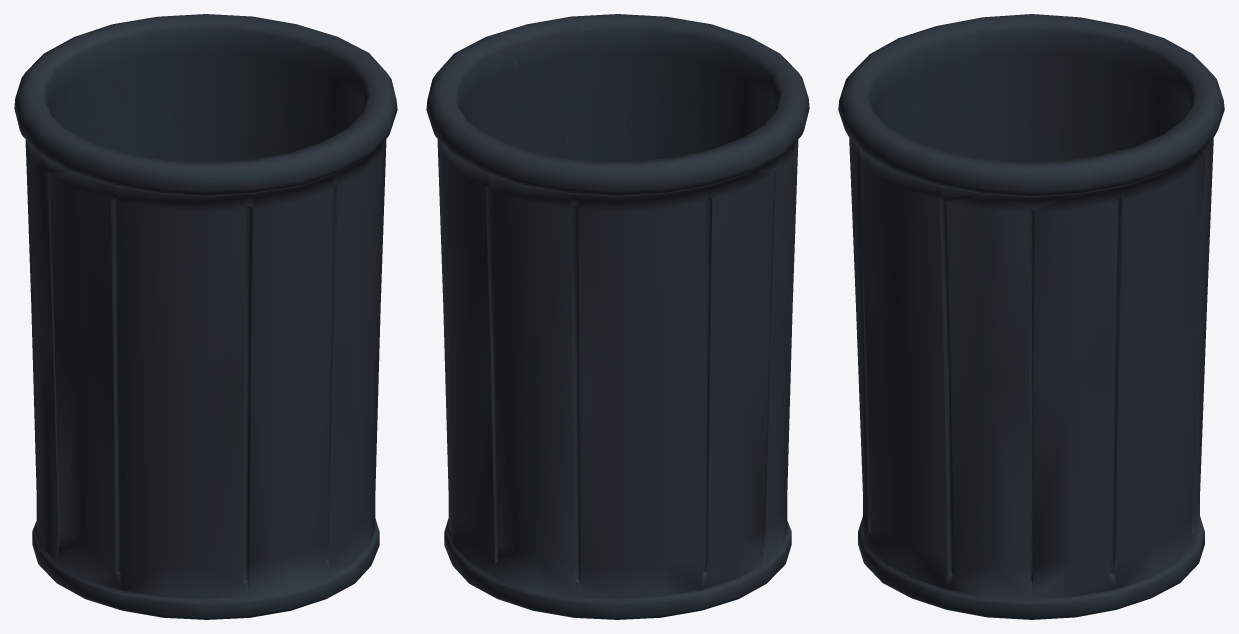
File: waste-bin-tripo-original.glb
3 views of the same model, side by side, from view 1: azimuth 30°, elevation 25°; view 2: azimuth 150°, elevation 25°; view 3: azimuth 270°, elevation 25° (orthographic).
Parts seen in each view (by area): view 1: tripo_node_1f3a23d9-67d1-4d82-ba7e-ef465f02de42; view 2: tripo_node_1f3a23d9-67d1-4d82-ba7e-ef465f02de42; view 3: tripo_node_1f3a23d9-67d1-4d82-ba7e-ef465f02de42.
Boxes of the visible parts, x1,y1,x2,y2 form: tripo_node_1f3a23d9-67d1-4d82-ba7e-ef465f02de42: (14, 14, 397, 619); tripo_node_1f3a23d9-67d1-4d82-ba7e-ef465f02de42: (426, 14, 809, 619); tripo_node_1f3a23d9-67d1-4d82-ba7e-ef465f02de42: (838, 14, 1224, 619).
Bounding box in the file's own units: 0.7652 × 1 × 0.7652.
Materials: 1 (1 with a texture image).
